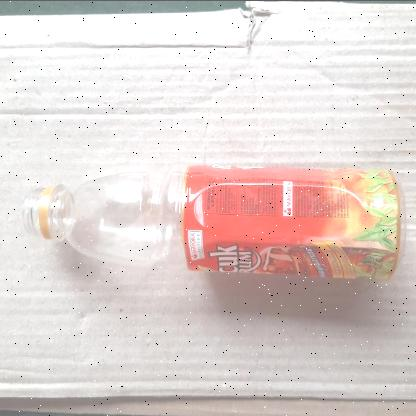Plastic Bottle: (22, 162, 404, 280)
